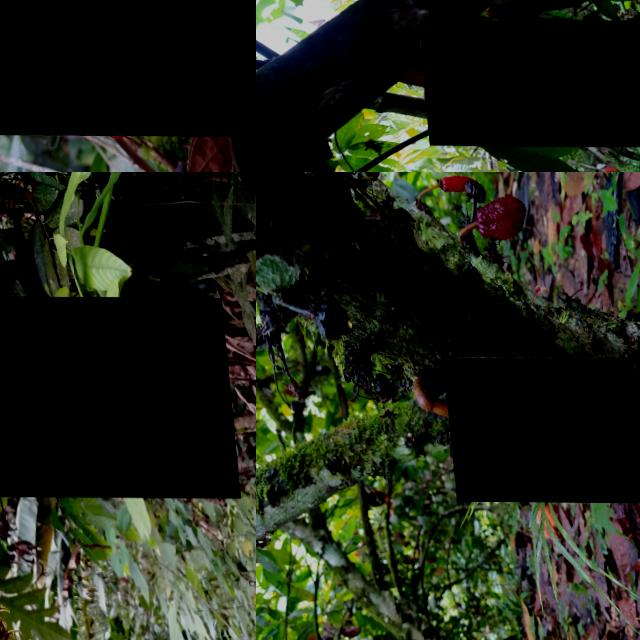Fitoftora: (412, 20, 640, 147)
Monilia: (0, 295, 231, 497), (0, 0, 256, 136), (439, 356, 639, 502)
Sana: (473, 195, 528, 238), (435, 175, 474, 193)
